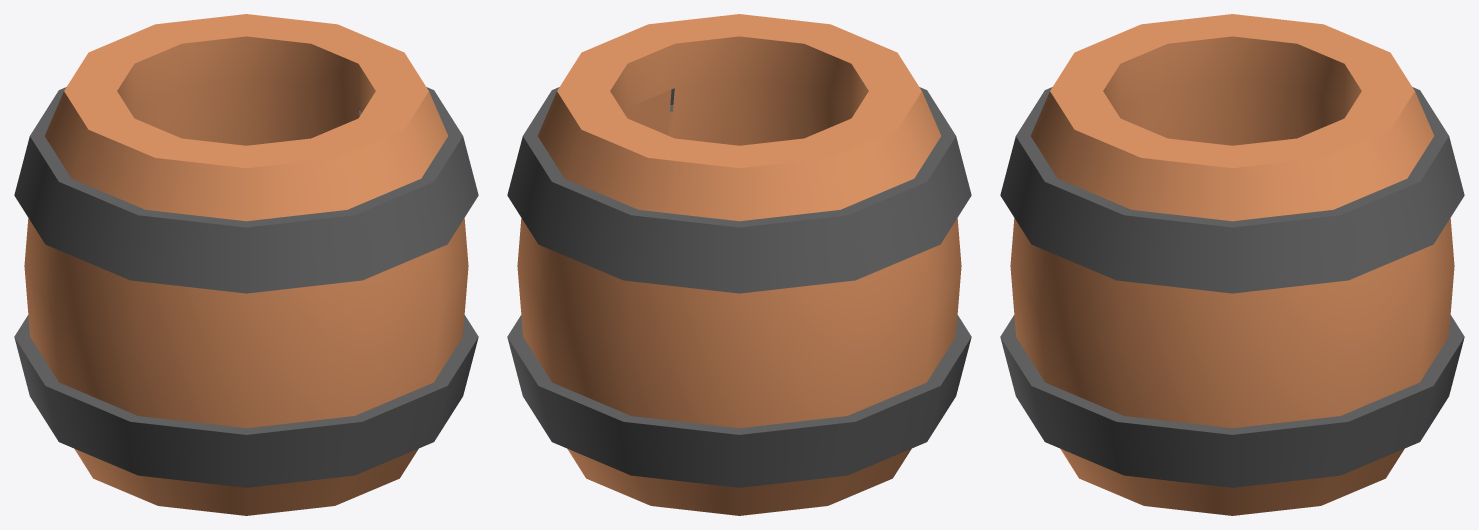
Rendered from Barrel_b.fbx.
3 renders of one model, left to right at view 1: azimuth 30°, elevation 25°; view 2: azimuth 150°, elevation 25°; view 3: azimuth 270°, elevation 25°, orthographic.
Visible parts, largest first — view 1: Barrel_b; view 2: Barrel_b; view 3: Barrel_b.
Boxes of the visible parts, x1,y1,x2,y2 form: Barrel_b: [14, 14, 478, 515]; Barrel_b: [507, 14, 971, 515]; Barrel_b: [1000, 14, 1464, 515].
Size of the model in its own units: 108 by 89.58 by 108.
